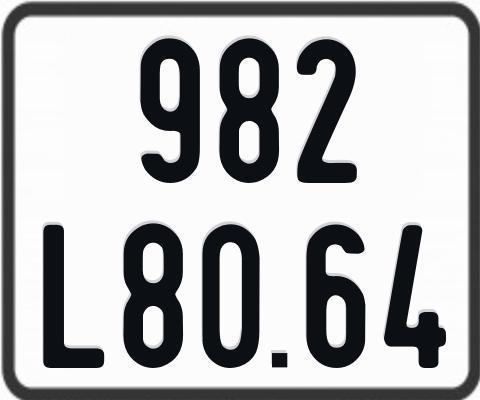0: (201, 221, 262, 366)
2: (296, 39, 360, 187)
4: (381, 224, 448, 372)
6: (304, 222, 368, 372)
8: (120, 220, 186, 366), (219, 37, 284, 185)
9: (139, 36, 205, 182)
L: (41, 225, 103, 371)
